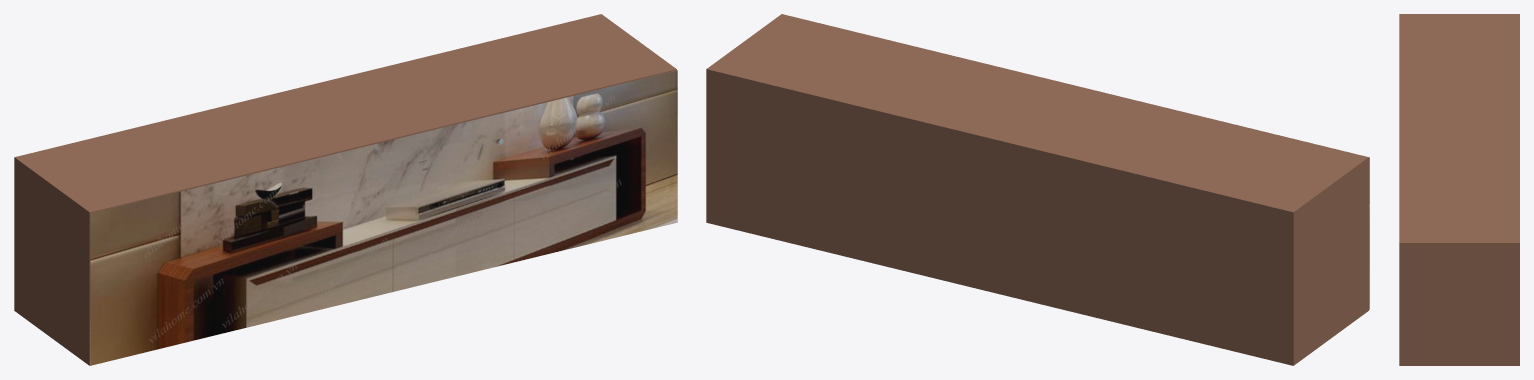
File: mocan-81.glb
The picture shows the model from 3 angles, left to right: view 1: azimuth 30°, elevation 25°; view 2: azimuth 150°, elevation 25°; view 3: azimuth 270°, elevation 25°; orthographic projection. The views are drawn at different scales.
Parts seen in each view (by area): view 1: furniture; view 2: furniture; view 3: furniture.
Boxes of the visible parts, x1,y1,x2,y2 form: furniture: (14, 14, 677, 365); furniture: (706, 14, 1369, 365); furniture: (1399, 14, 1519, 365).
Bounding box in the file's own units: 1.8 × 0.45 × 0.404.
2 materials, 1 textured.
